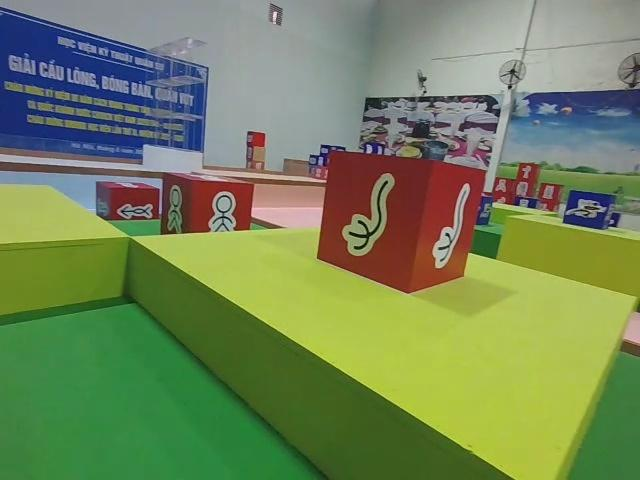R2 Real: (315, 146, 490, 295), (156, 168, 257, 242), (93, 177, 161, 228)
